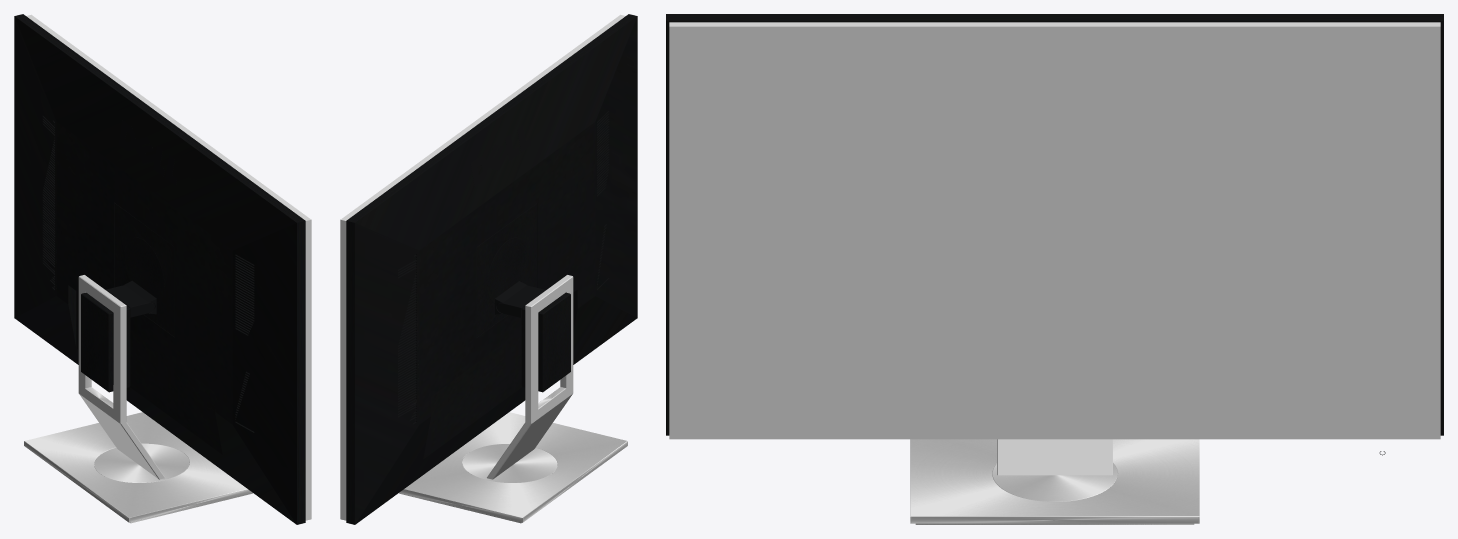
The model's file is test_monitor.fbx.
3 views of the same model, side by side, from view 1: azimuth 30°, elevation 25°; view 2: azimuth 150°, elevation 25°; view 3: azimuth 270°, elevation 25° (orthographic). The views are drawn at different scales.
Parts seen in each view (by area): view 1: Box010, Box005, Line001, Cube, Box062, Box064, Cylinder002, Box009, Cylinder004, Box003, Shape007, Line002; view 2: Box010, Box005, Line001, Cube, Box062, Box064, Cylinder002, Box009, Cylinder004, Box003, Shape007, Line002; view 3: Cube, Box005, Box003, Line001, Cylinder002, Box009, Box010.
Boxes of the visible parts, <box> form: Box010: <box>14,15,300,524</box>; Box005: <box>24,412,252,523</box>; Line001: <box>78,275,164,479</box>; Cube: <box>26,14,311,520</box>; Box062: <box>81,292,130,392</box>; Box064: <box>114,203,174,336</box>; Cylinder002: <box>94,444,189,482</box>; Box009: <box>18,14,303,523</box>; Cylinder004: <box>124,237,164,302</box>; Box003: <box>22,14,305,522</box>; Shape007: <box>118,120,176,185</box>; Line002: <box>106,285,154,317</box>; Box010: <box>351,15,637,524</box>; Box005: <box>399,412,627,523</box>; Line001: <box>487,275,573,479</box>; Cube: <box>340,14,625,520</box>; Box062: <box>521,292,570,392</box>; Box064: <box>476,203,536,337</box>; Cylinder002: <box>462,444,557,482</box>; Box009: <box>348,14,633,523</box>; Cylinder004: <box>487,237,526,303</box>; Box003: <box>346,14,629,522</box>; Shape007: <box>470,125,531,186</box>; Line002: <box>496,285,545,317</box>; Cube: <box>669,22,1440,439</box>; Box005: <box>910,439,1199,524</box>; Box003: <box>666,18,1443,435</box>; Line001: <box>997,439,1112,475</box>; Cylinder002: <box>992,463,1117,501</box>; Box009: <box>666,16,1443,18</box>; Box010: <box>666,14,1443,16</box>.
Bounding box in the file's own units: 16.27 × 41.89 × 61.57.
